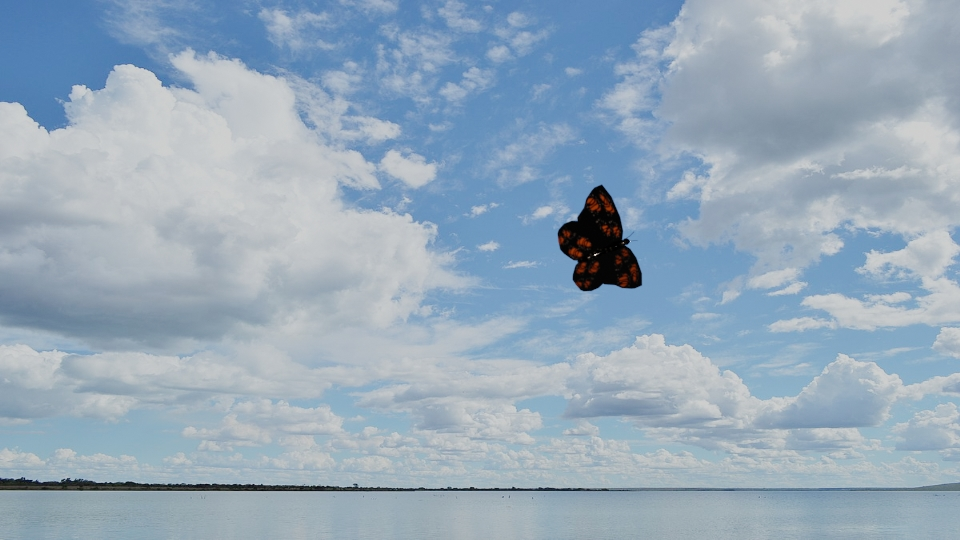insect: (557, 185, 644, 293)
